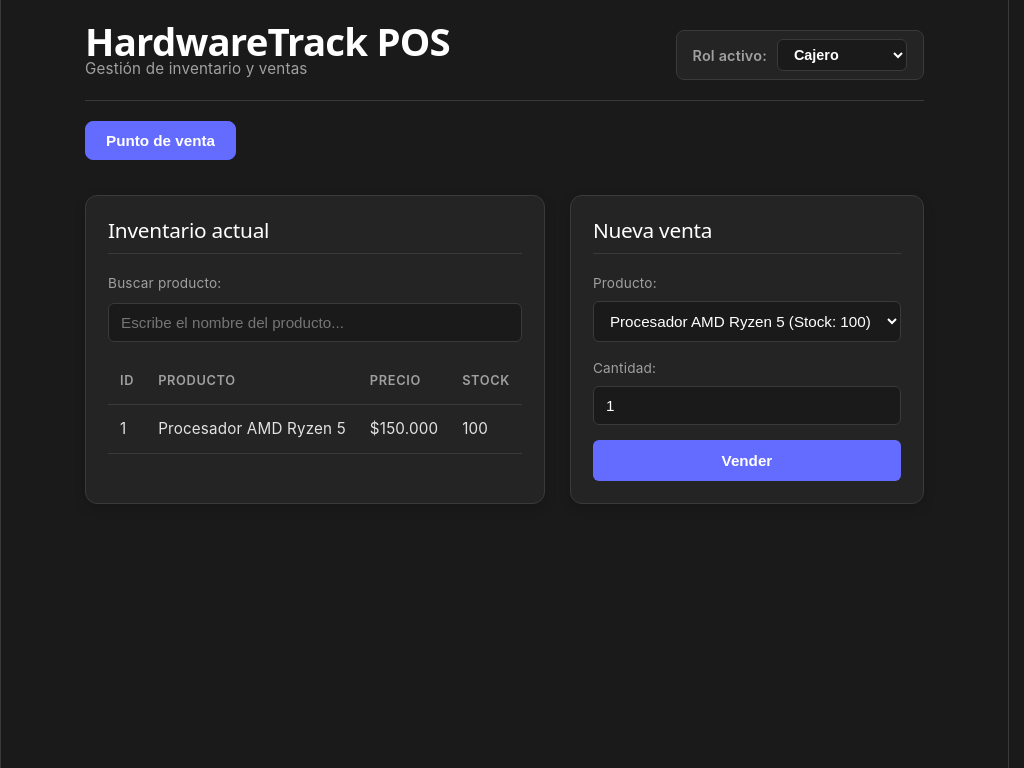
Test: Aplicación POS HardwareTrack › procesa el registro de una venta exitosamente
expect the text "Procesador AMD Ryzen 5" is shown: met, box x1=146 y1=405 x2=358 y2=453
What coordinates should you click on to do the following:
click the button "Vender"
I would click on:
 (747, 461)
Its box is x1=593 y1=440 x2=901 y2=481.
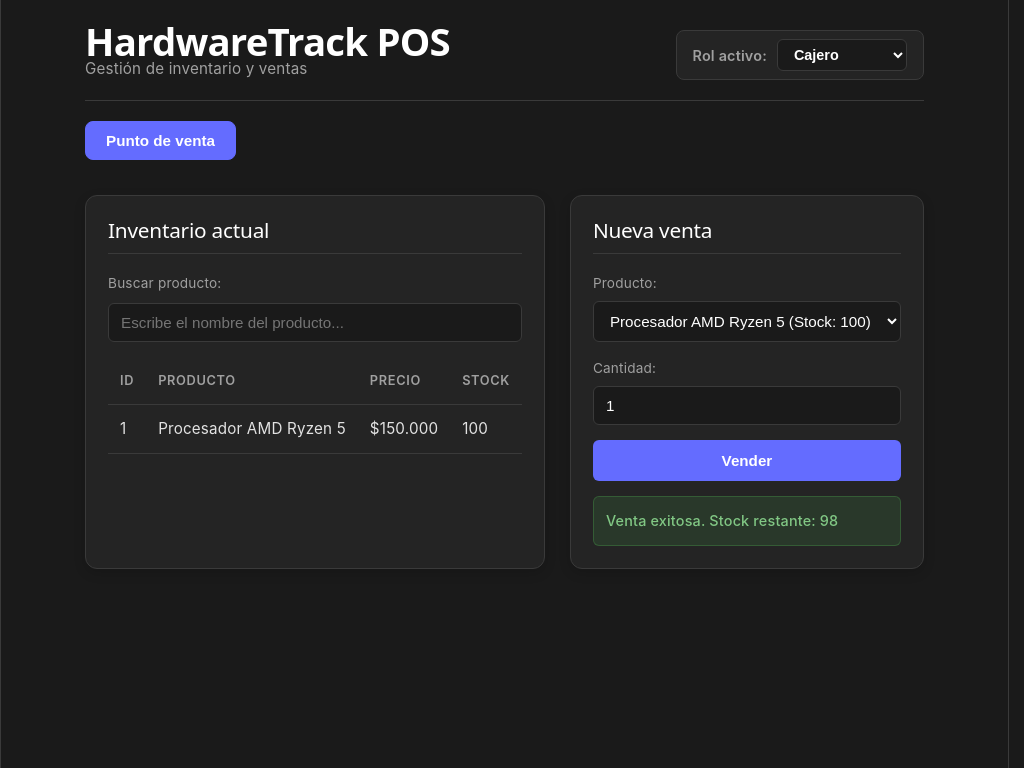
expect the text "Venta exitosa. Stock restante: 98" is shown: met, box x1=593 y1=496 x2=901 y2=546
